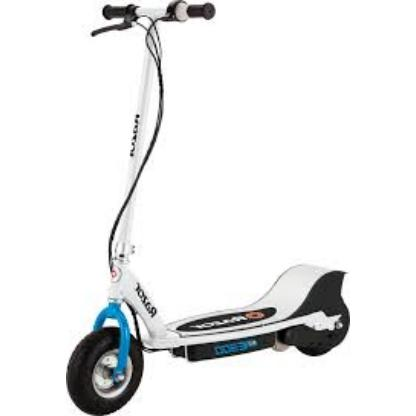bike: (64, 0, 394, 416)
